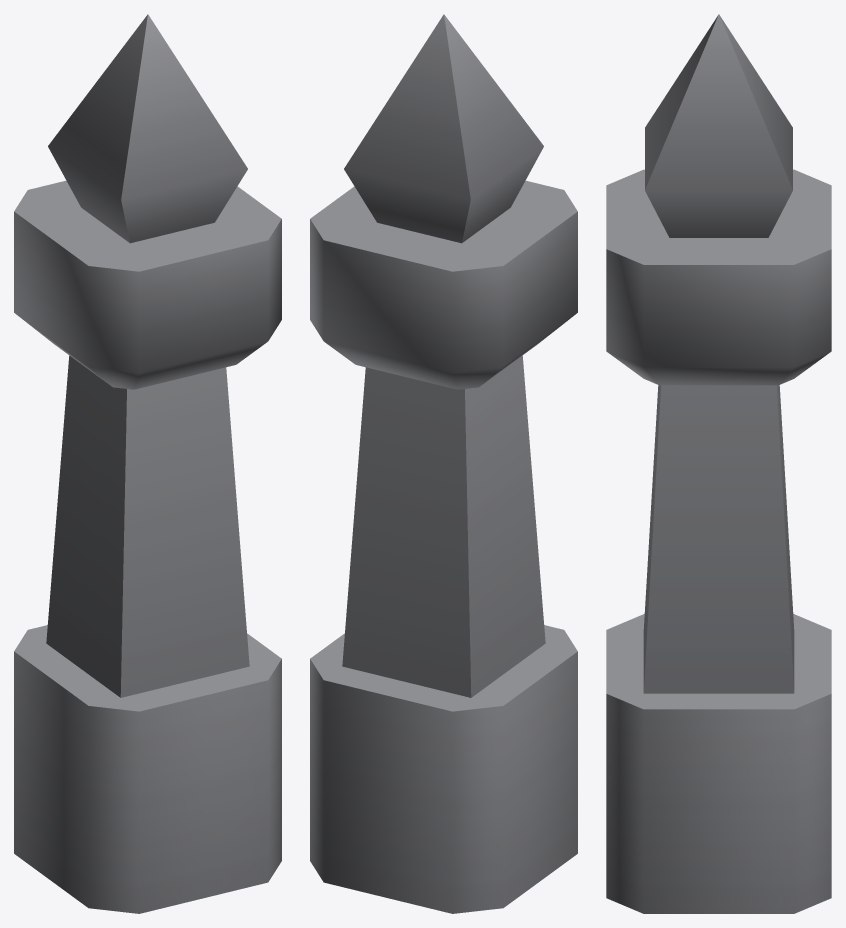
Rendered from pillar-small.glb.
3 views of the same model, side by side, from view 1: azimuth 30°, elevation 25°; view 2: azimuth 150°, elevation 25°; view 3: azimuth 270°, elevation 25° (orthographic).
Parts seen in each view (by area): view 1: pillar-small; view 2: pillar-small; view 3: pillar-small.
Boxes of the visible parts, left/top/right/bottom form: pillar-small: left=14, top=14, right=281, bottom=913; pillar-small: left=310, top=14, right=577, bottom=913; pillar-small: left=606, top=14, right=831, bottom=913.
Size of the model in its own units: 0.4356 by 1.82 by 0.4356.
1 material, 1 textured.
